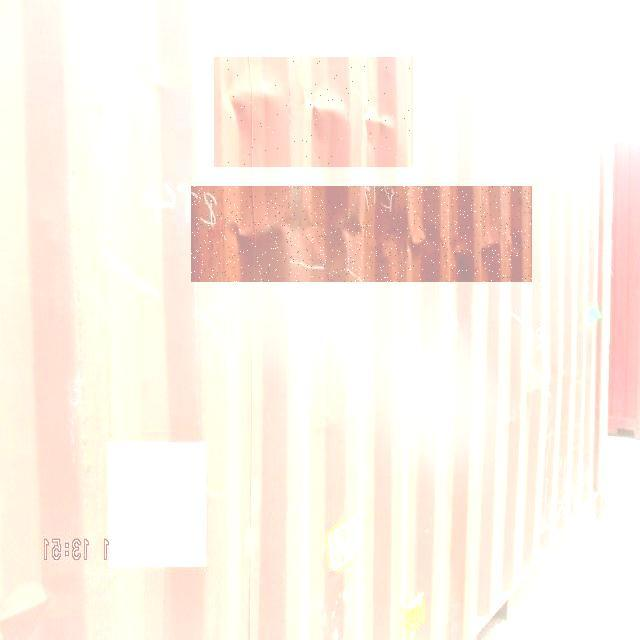Dent: (191, 187, 532, 283), (214, 57, 413, 167)
